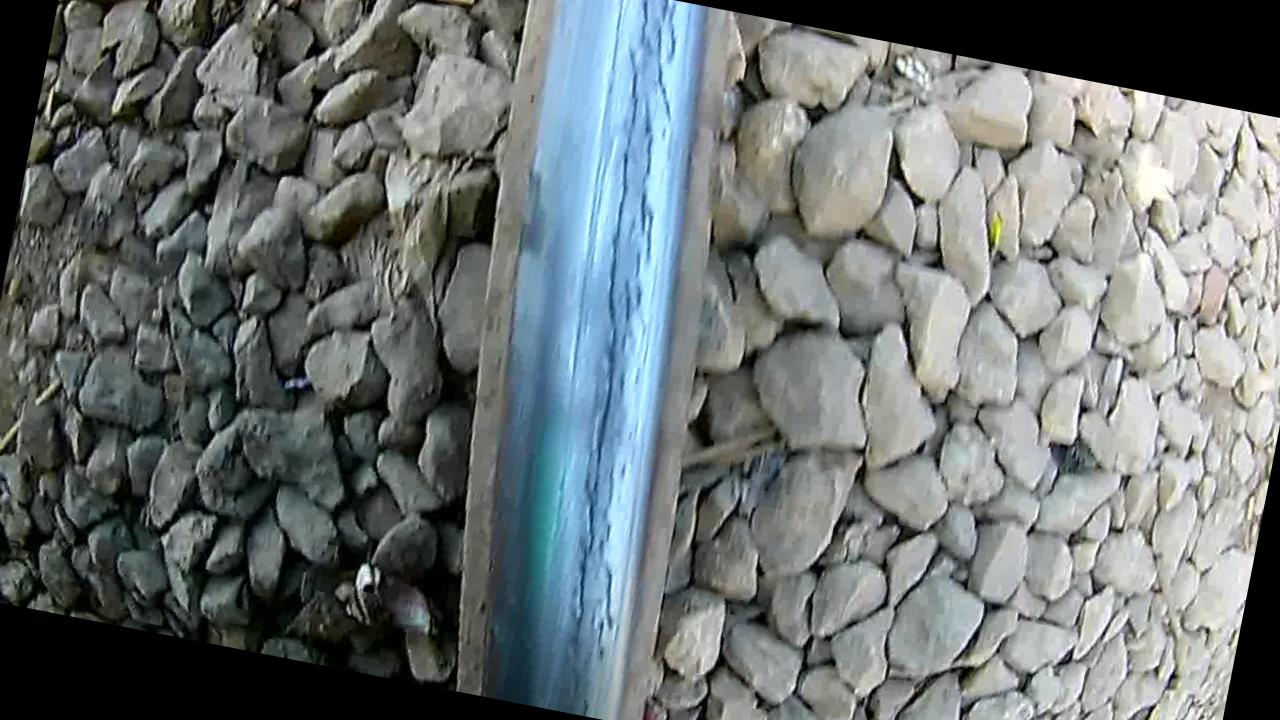normal_track: (489, 0, 734, 711)
